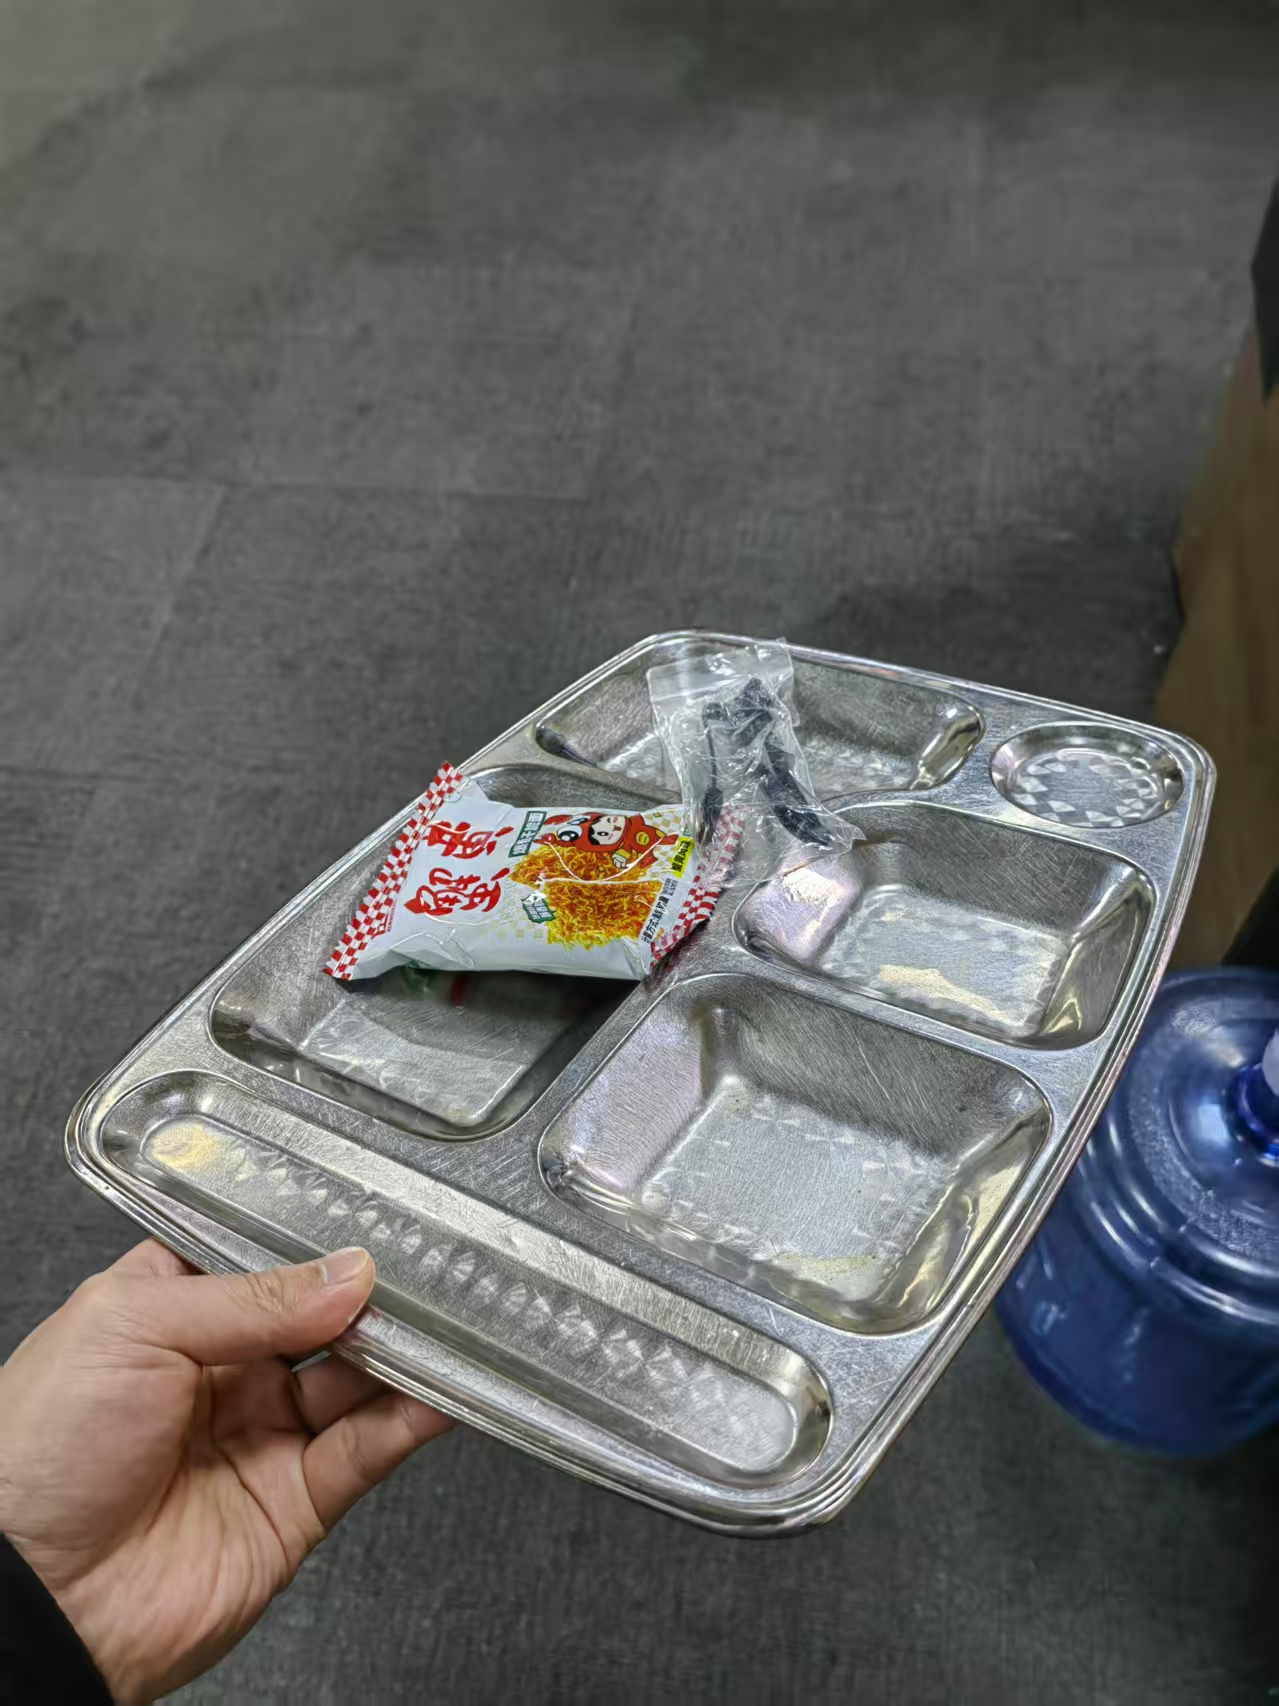mild: (326, 639, 870, 985)
plate: (62, 629, 1216, 1541)
